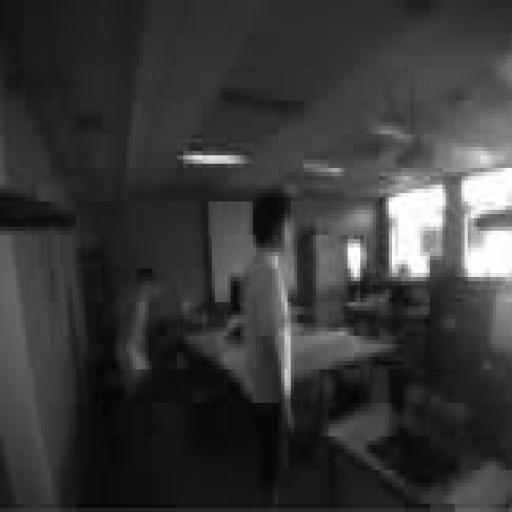human: (244, 189, 293, 503), (117, 269, 161, 394)
